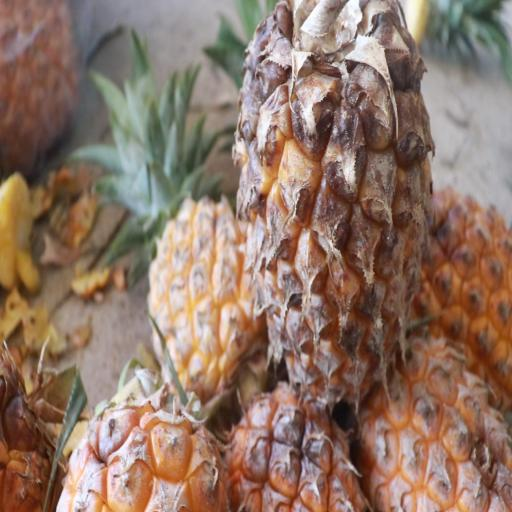Pineapple - v8 v1: (220, 0, 427, 411), (142, 76, 269, 390), (344, 333, 510, 512), (52, 371, 210, 512), (222, 371, 362, 512)
